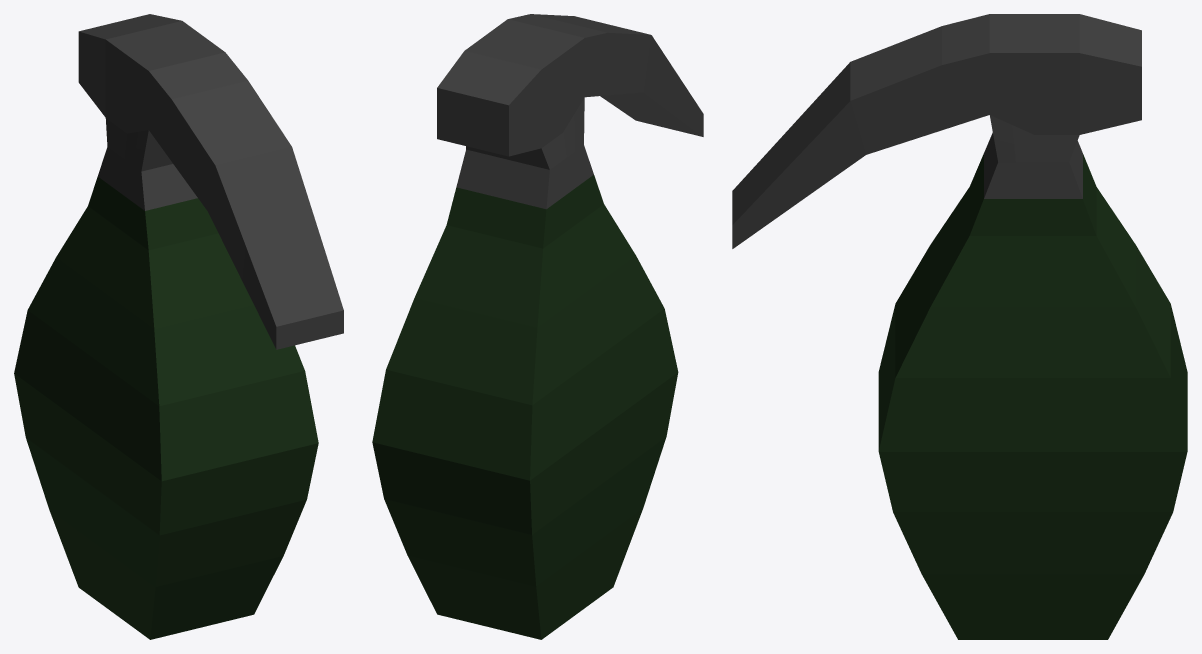
File: Grenade.fbx
3 renders of one model, left to right at view 1: azimuth 30°, elevation 25°; view 2: azimuth 150°, elevation 25°; view 3: azimuth 270°, elevation 25°, orthographic. The views are drawn at different scales.
Parts seen in each view (by area): view 1: Grenade; view 2: Grenade; view 3: Grenade.
Boxes of the visible parts, x1=… form: Grenade: x1=14, y1=14, x2=343, y2=639; Grenade: x1=372, y1=14, x2=703, y2=639; Grenade: x1=732, y1=14, x2=1187, y2=639.
Bounding box in the file's own units: 14.05 × 47.44 × 33.73.
